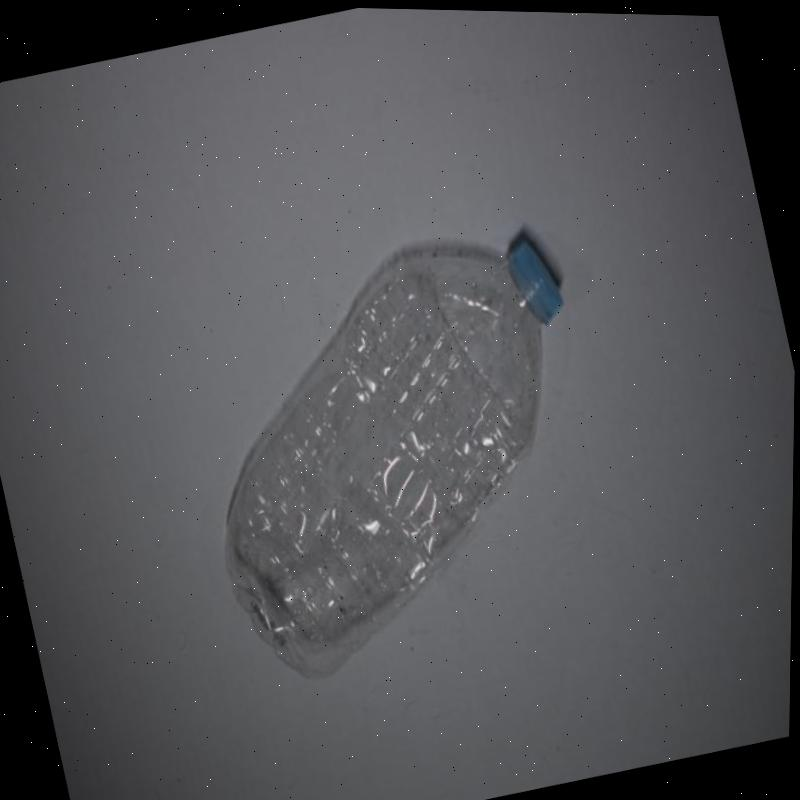botella: (162, 202, 641, 703)
